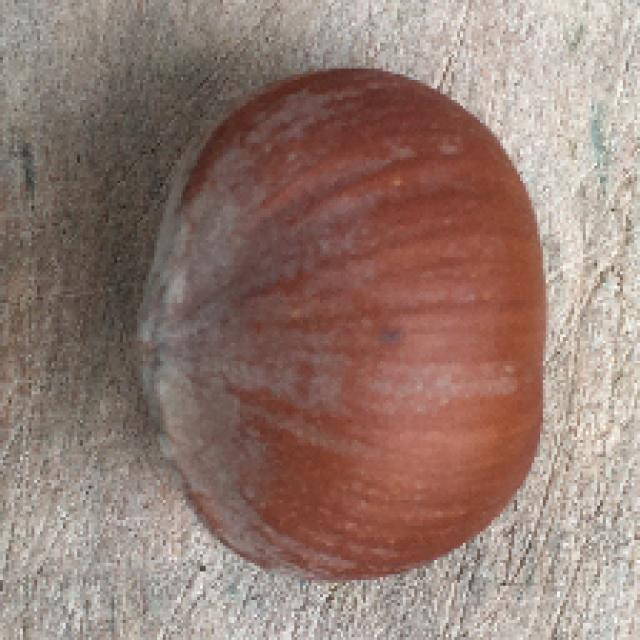qualityHazelnut: (130, 61, 550, 592)
